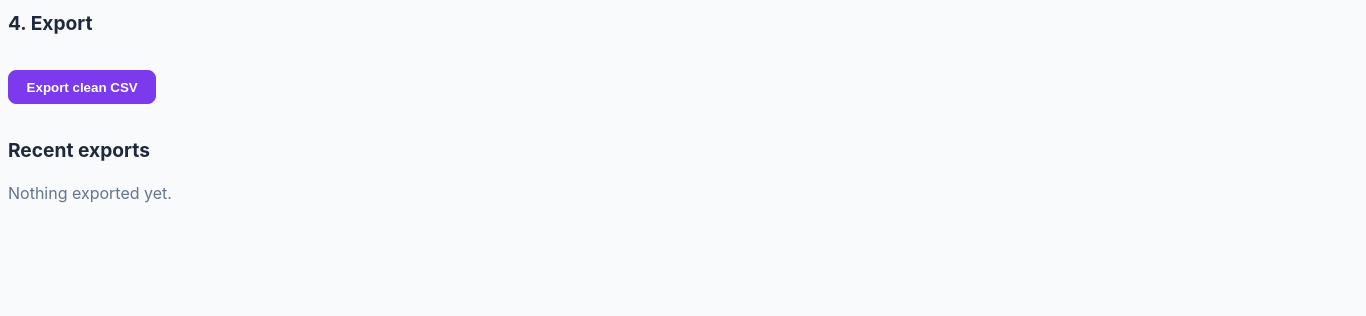
it: refreshes the export history after a successful export
Expected: the text "Nothing exported yet." is shown, [8,183,172,203]
Click the button "Export clean CSV". click: (82, 87)
box: [8,70,156,104]
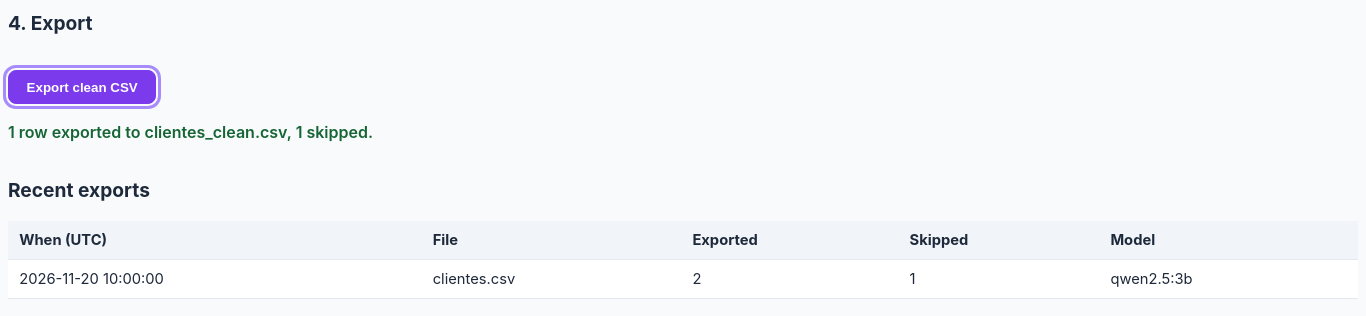
Result: the row "2026-11-20 10:00:00 clientes.csv 2 1 qwen2.5:3b" is shown at [8,260,1358,299]
